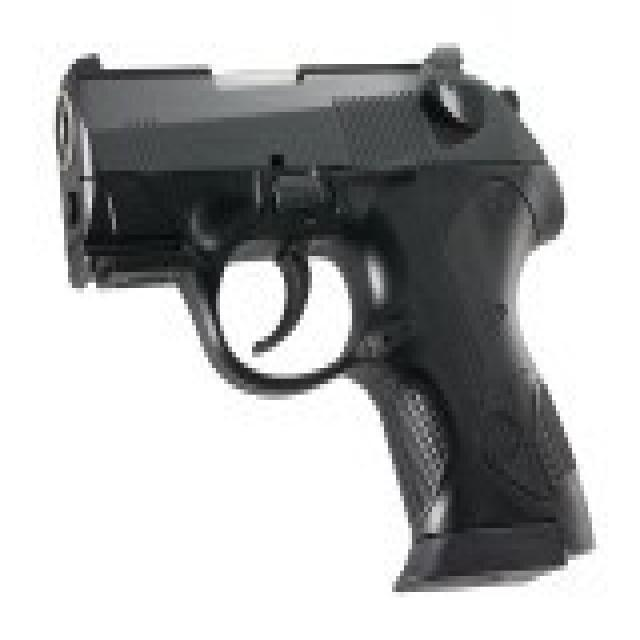Gun: (53, 32, 601, 569)
